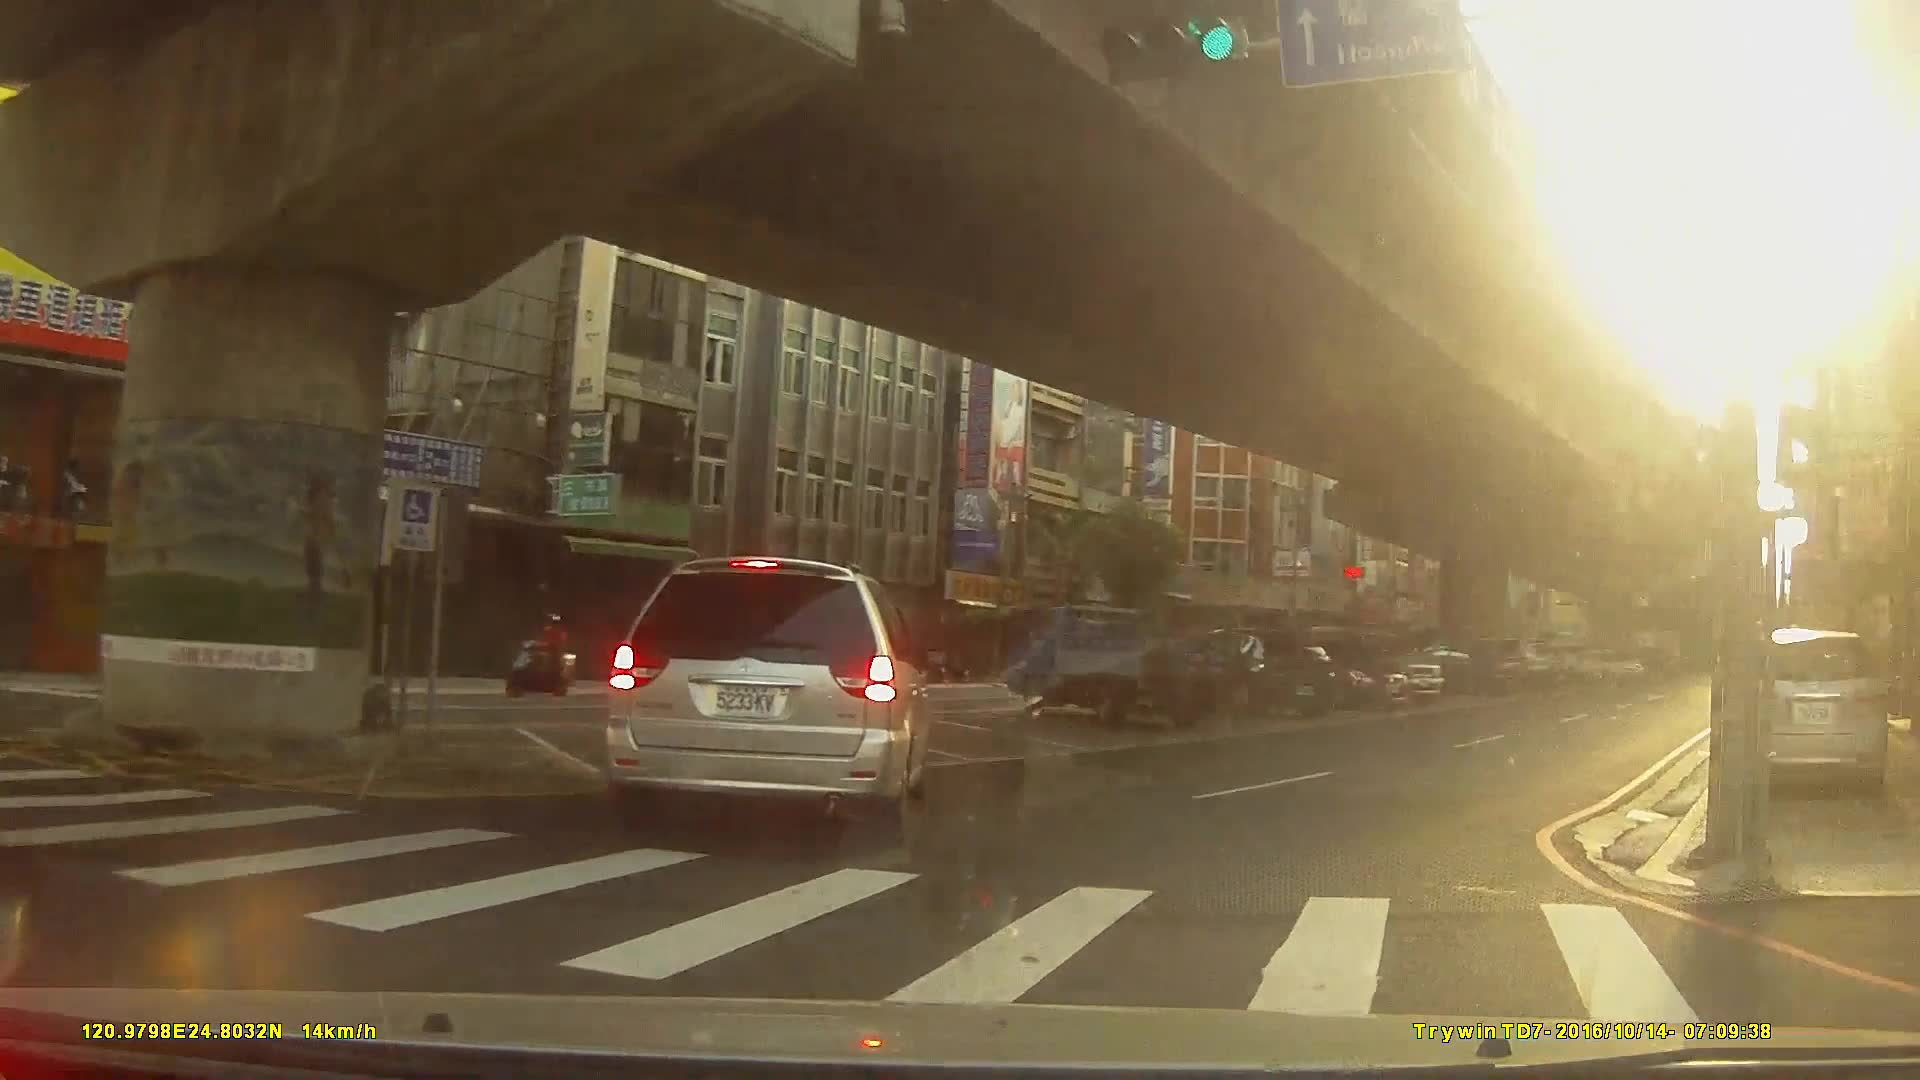rider: (510, 614, 578, 700)
vehicle: (604, 555, 931, 849), (1732, 627, 1889, 805), (1006, 600, 1229, 723), (1171, 624, 1334, 717), (1258, 632, 1410, 709), (1398, 643, 1499, 695)
